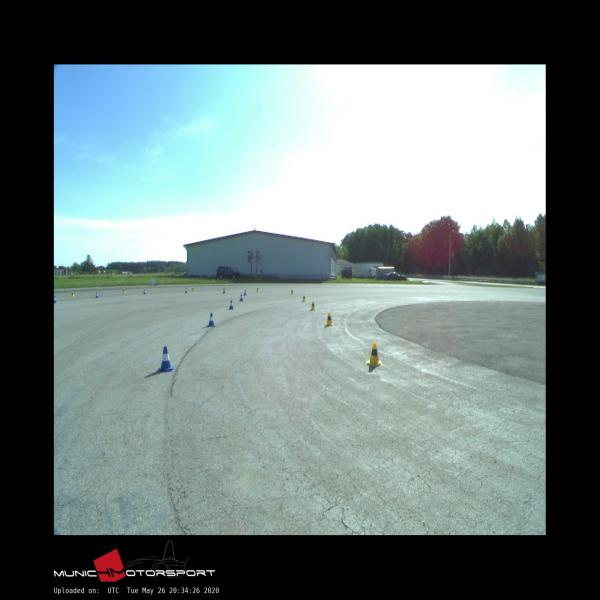blue_cone: (158, 346, 174, 371), (207, 313, 215, 326), (229, 300, 234, 309), (240, 294, 244, 301), (243, 290, 247, 296), (95, 292, 99, 298), (54, 296, 57, 303), (223, 288, 226, 294), (185, 288, 188, 293), (143, 289, 146, 294)
yellow_cone: (366, 340, 382, 366), (325, 312, 333, 326), (310, 301, 316, 310), (302, 294, 306, 302), (70, 291, 74, 296), (291, 288, 294, 294), (256, 286, 259, 292), (192, 286, 194, 291), (123, 288, 125, 293)
